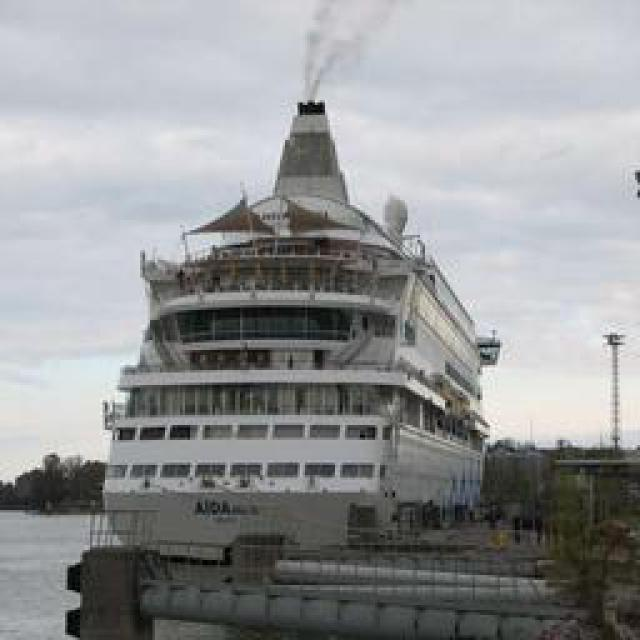Ship: (79, 80, 504, 608)
